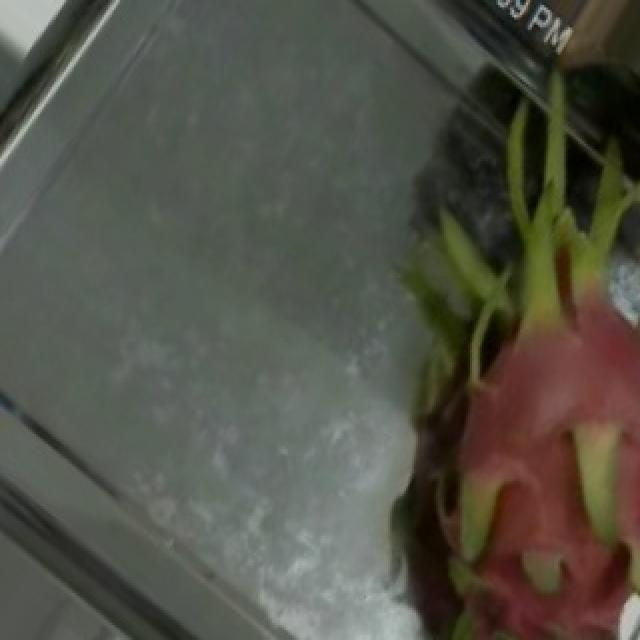fruit: (298, 216, 640, 635)
